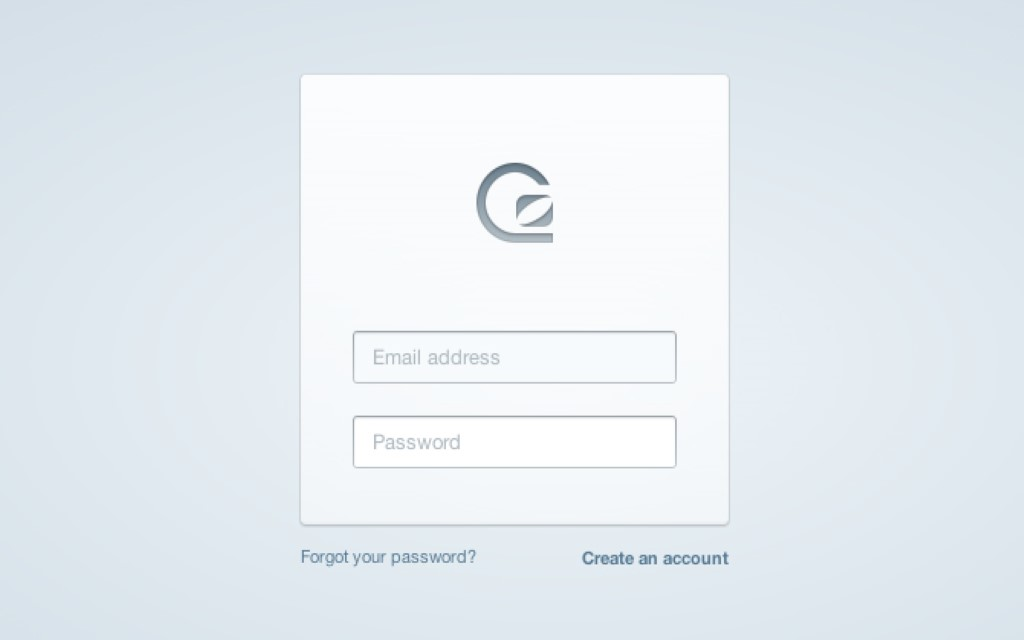label_email: (371, 341, 504, 373)
label_password: (370, 430, 462, 452)
textbox: (353, 331, 675, 383), (353, 417, 675, 466)
textbox_Password: (353, 415, 676, 467)
textbox_email: (353, 330, 676, 383)
url: (297, 544, 476, 569), (580, 548, 730, 571)
